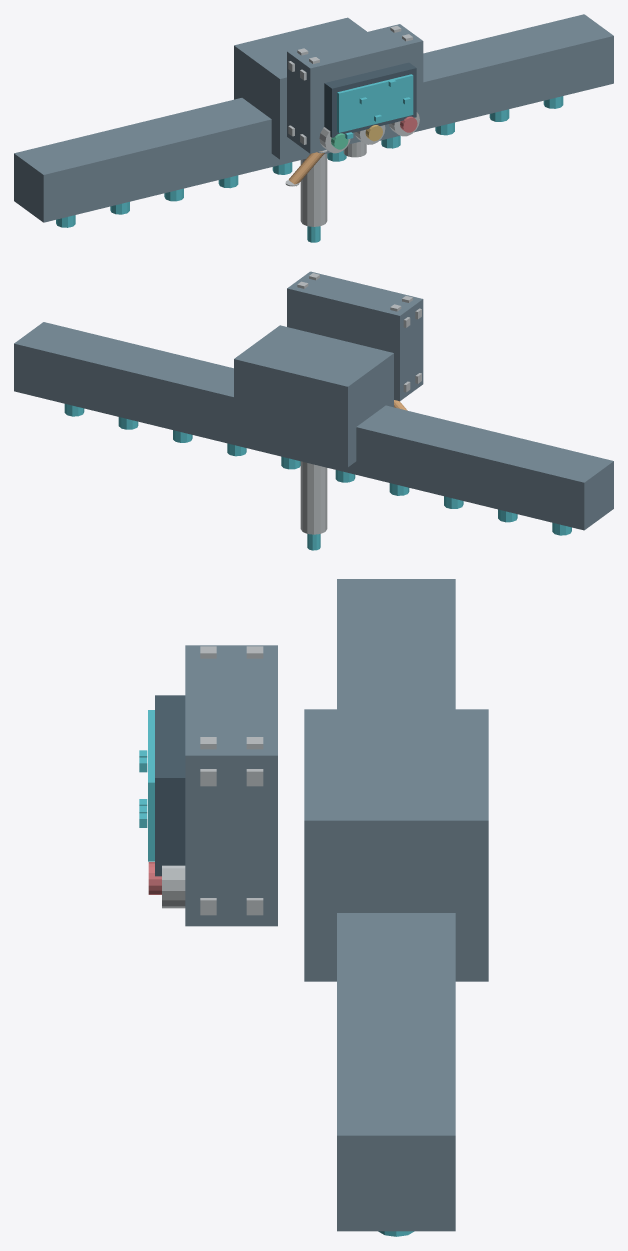
The model's file is 24_L78_CapFilmThicknessInterferometer.glb.
3 renders of one model, top to bottom at view 1: azimuth 30°, elevation 25°; view 2: azimuth 150°, elevation 25°; view 3: azimuth 270°, elevation 25°, orthographic. The views are drawn at different scales.
Parts seen in each view (by area): view 1: CapFilmThicknessInterferometer_Node_0000, CapFilmThicknessInterferometer_Node_0011, CapFilmThicknessInterferometer_Node_0037, CapFilmThicknessInterferometer_Node_0021, CapFilmThicknessInterferometer_Node_0020, CapFilmThicknessInterferometer_Node_0038, CapFilmThicknessInterferometer_Node_0034; view 2: CapFilmThicknessInterferometer_Node_0000, CapFilmThicknessInterferometer_Node_0037, CapFilmThicknessInterferometer_Node_0011, CapFilmThicknessInterferometer_Node_0038; view 3: CapFilmThicknessInterferometer_Node_0000, CapFilmThicknessInterferometer_Node_0037, CapFilmThicknessInterferometer_Node_0011, CapFilmThicknessInterferometer_Node_0020, CapFilmThicknessInterferometer_Node_0021, CapFilmThicknessInterferometer_Node_0031.
Part boxes in pixels (box(x1,y1,x2,y2)): CapFilmThicknessInterferometer_Node_0000: box(14, 14, 613, 222); CapFilmThicknessInterferometer_Node_0011: box(287, 24, 423, 153); CapFilmThicknessInterferometer_Node_0037: box(234, 17, 366, 159); CapFilmThicknessInterferometer_Node_0021: box(337, 74, 413, 132); CapFilmThicknessInterferometer_Node_0020: box(324, 62, 416, 137); CapFilmThicknessInterferometer_Node_0038: box(300, 153, 327, 226); CapFilmThicknessInterferometer_Node_0034: box(288, 151, 324, 186); CapFilmThicknessInterferometer_Node_0000: box(14, 322, 613, 530); CapFilmThicknessInterferometer_Node_0037: box(234, 325, 393, 467); CapFilmThicknessInterferometer_Node_0011: box(287, 271, 423, 401); CapFilmThicknessInterferometer_Node_0038: box(300, 461, 327, 534); CapFilmThicknessInterferometer_Node_0000: box(337, 579, 455, 1231); CapFilmThicknessInterferometer_Node_0037: box(304, 709, 488, 981); CapFilmThicknessInterferometer_Node_0011: box(185, 645, 277, 926); CapFilmThicknessInterferometer_Node_0020: box(155, 695, 185, 876); CapFilmThicknessInterferometer_Node_0021: box(148, 710, 154, 861); CapFilmThicknessInterferometer_Node_0031: box(162, 865, 185, 908).
Bounding box in the file's own units: 2 × 0.7595 × 0.5302.
